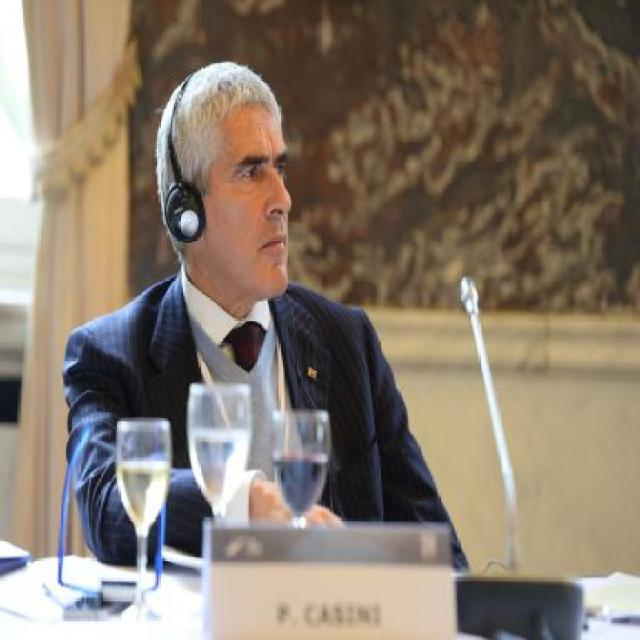earphone: (152, 60, 226, 275)
